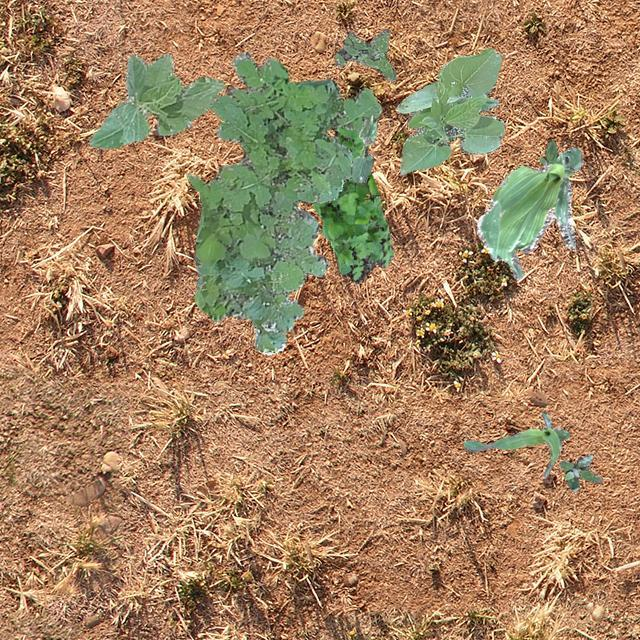crop: (476, 146, 582, 278), (396, 46, 504, 175), (89, 52, 222, 148), (462, 410, 568, 476), (349, 114, 376, 182), (196, 278, 200, 286)
weed: (186, 50, 380, 354), (312, 125, 392, 282), (334, 28, 394, 80), (560, 452, 600, 490), (538, 140, 558, 168)
